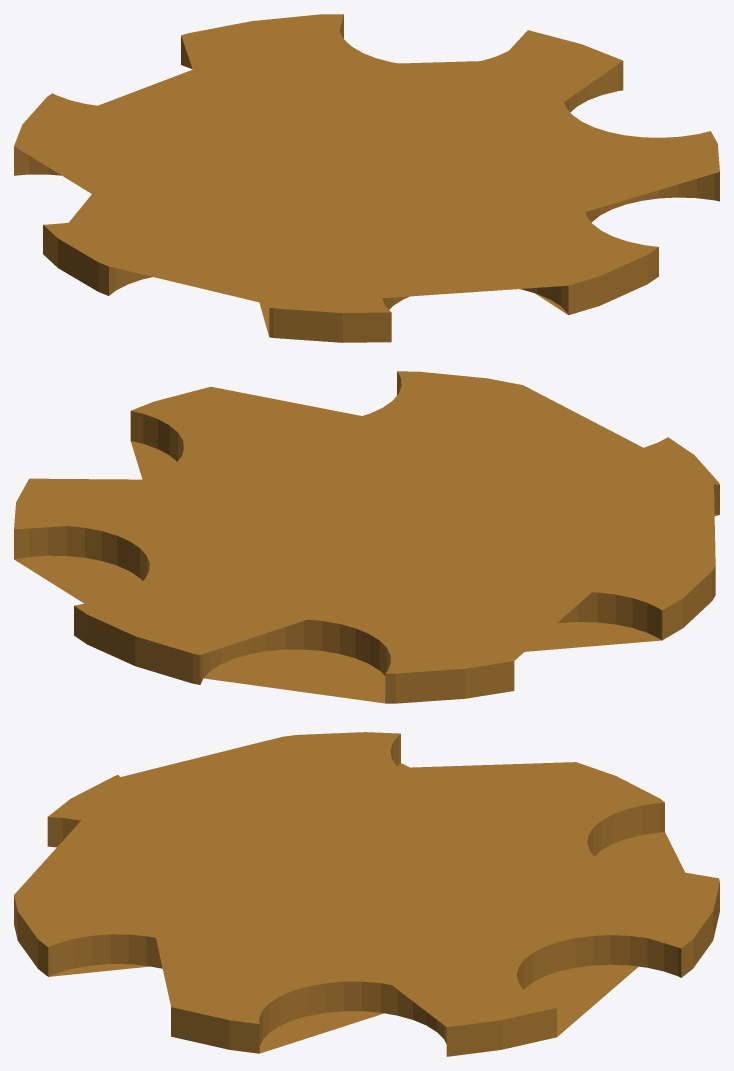
Rendered from hammasrattas.fbx.
3 views of the same model, one above another, from view 1: azimuth 30°, elevation 25°; view 2: azimuth 150°, elevation 25°; view 3: azimuth 270°, elevation 25° (orthographic).
Visible parts, largest first — view 1: Circle; view 2: Circle; view 3: Circle.
Part boxes in pixels (x1=…): Circle: x1=14, y1=14, x2=719, y2=342; Circle: x1=14, y1=371, x2=719, y2=703; Circle: x1=14, y1=732, x2=719, y2=1056.
Bounding box in the file's own units: 197 × 9.22 × 199.
